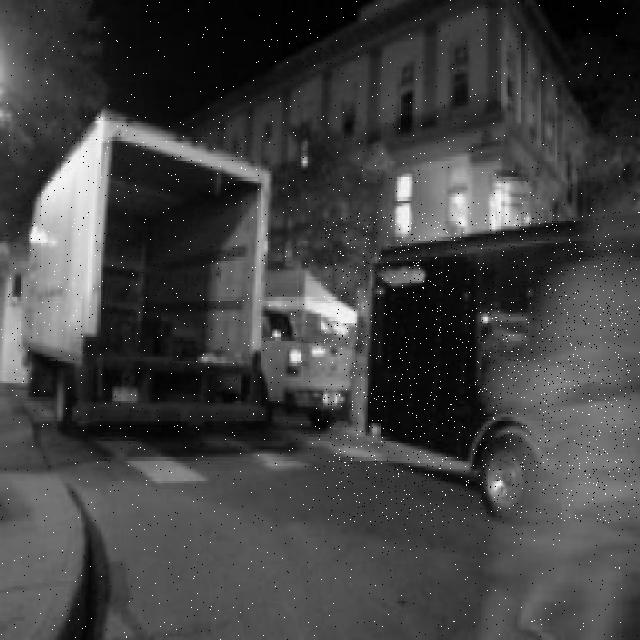Box Truck: (12, 112, 272, 431)
Trailer: (324, 212, 640, 523)
